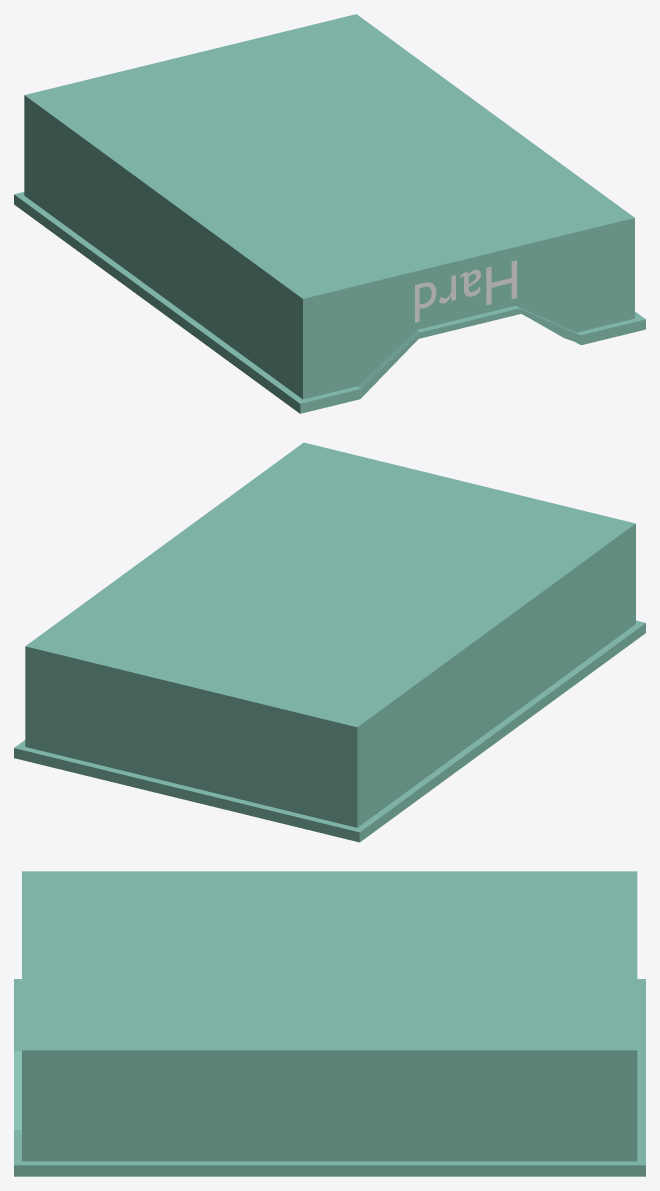
Rendered from Folder_hard.fbx.
The picture shows the model from 3 angles, top to bottom: view 1: azimuth 30°, elevation 25°; view 2: azimuth 150°, elevation 25°; view 3: azimuth 270°, elevation 25°; orthographic projection. The views are drawn at different scales.
Visible parts, largest first — view 1: Cube, Text; view 2: Cube; view 3: Cube.
Part boxes in pixels (box(x1,y1,x2,y2)): Cube: box(14, 14, 645, 413); Text: box(415, 260, 516, 322); Cube: box(14, 442, 645, 842); Cube: box(14, 871, 645, 1176).
Size of the model in its own units: 654 by 200 by 937.
